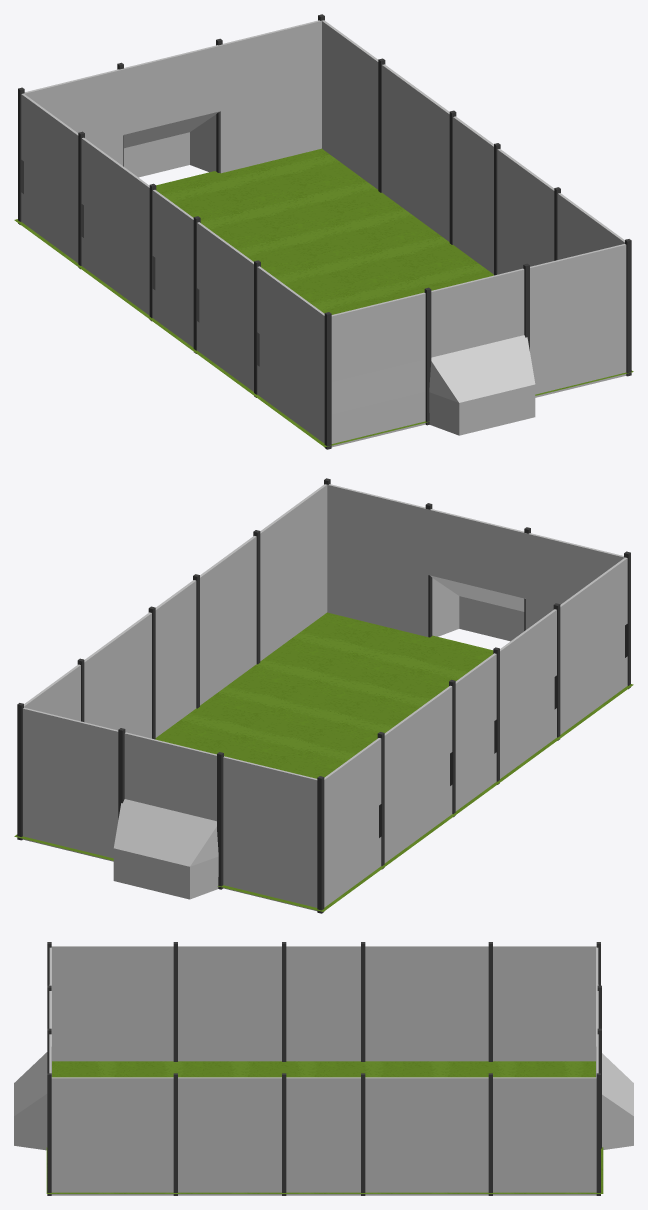
Rendered from Voetbalkooi.fbx.
3 renders of one model, top to bottom at view 1: azimuth 30°, elevation 25°; view 2: azimuth 150°, elevation 25°; view 3: azimuth 270°, elevation 25°, orthographic. The views are drawn at different scales.
Visible parts, largest first — view 1: Cube.030, Plane.009, Cube.032; view 2: Cube.030, Plane.009, Cube.032; view 3: Cube.030, Plane.009, Cube.032.
Boxes of the visible parts, x1,y1,x2,y2 form: Cube.030: [21, 20, 626, 447]; Plane.009: [14, 148, 633, 447]; Cube.032: [18, 14, 631, 449]; Cube.030: [23, 484, 627, 910]; Plane.009: [14, 612, 633, 911]; Cube.032: [17, 478, 630, 913]; Cube.030: [14, 946, 633, 1195]; Plane.009: [46, 1061, 603, 1193]; Cube.032: [47, 942, 601, 1195].
Bounding box in the file's own units: 95.91 × 40 × 186.
